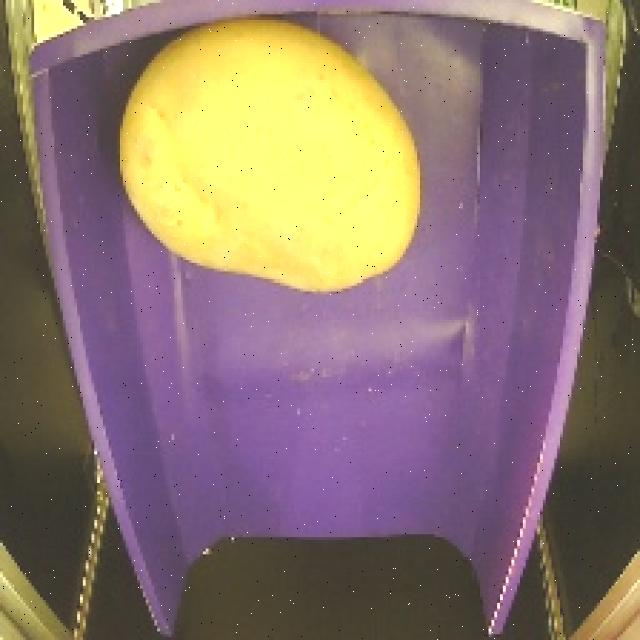full_potato: (96, 13, 428, 313)
